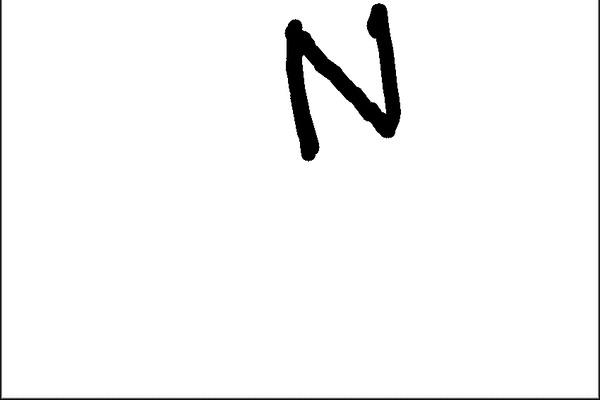N: (279, 1, 403, 164)
